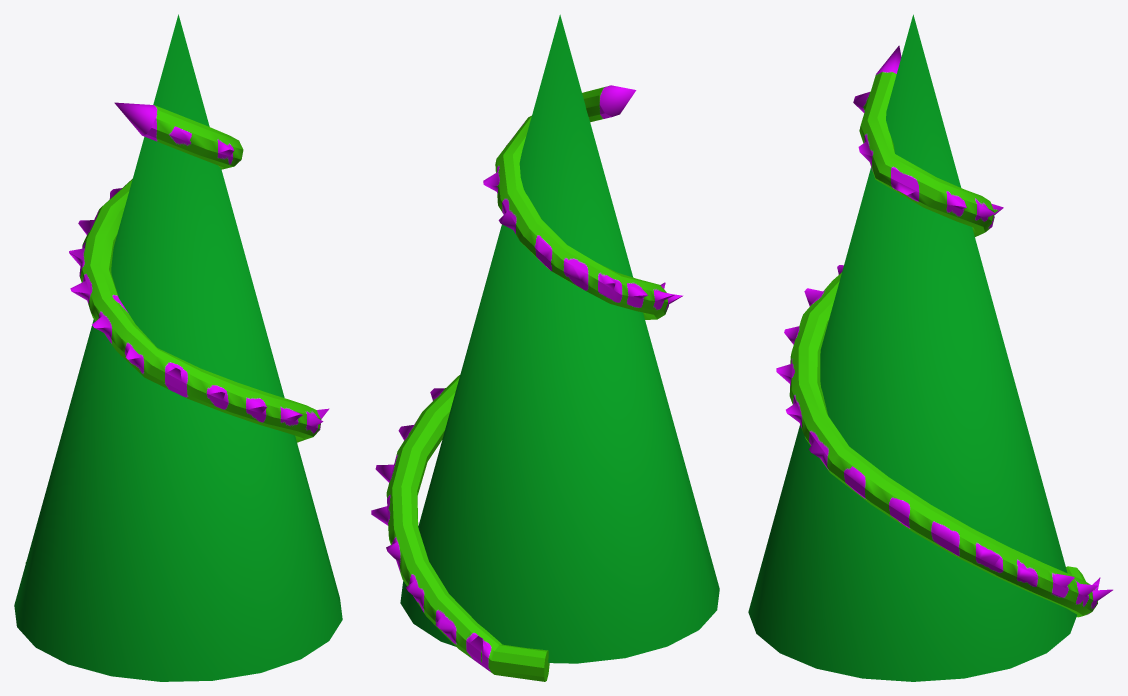
Rendered from Plant-spike.fbx.
The picture shows the model from 3 angles, left to right: view 1: azimuth 30°, elevation 25°; view 2: azimuth 150°, elevation 25°; view 3: azimuth 270°, elevation 25°; orthographic projection. The views are drawn at different scales.
Parts seen in each view (by area): view 1: pCone1, pCylinder1; view 2: pCone1, pCylinder1; view 3: pCone1, pCylinder1.
Boxes of the visible parts, x1,y1,x2,y2 form: pCone1: [14, 14, 342, 681]; pCylinder1: [25, 102, 329, 563]; pCone1: [400, 14, 719, 663]; pCylinder1: [371, 85, 682, 681]; pCone1: [748, 14, 1076, 681]; pCylinder1: [776, 45, 1112, 617].
Bounding box in the file's own units: 2.03 × 4.1 × 2.21.
